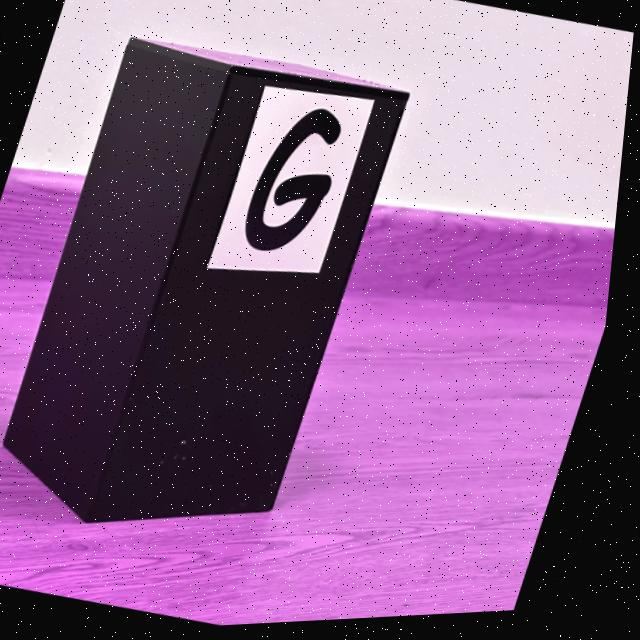G: (250, 111, 344, 254)
